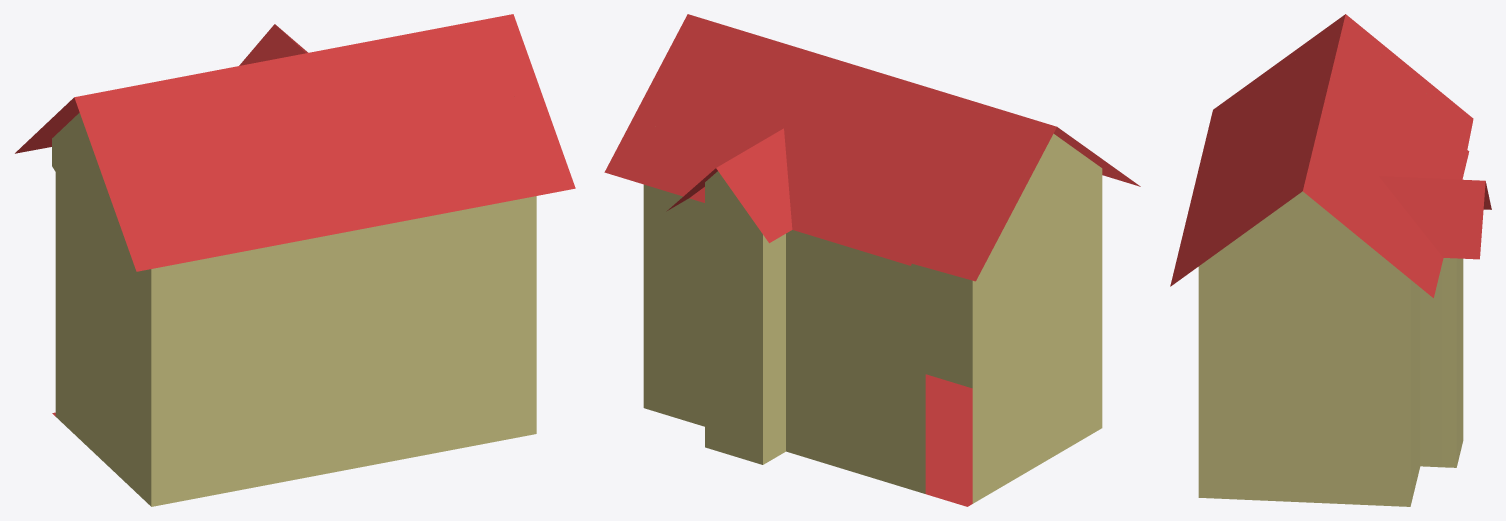
3 views of the same model, side by side, from view 1: azimuth 30°, elevation 25°; view 2: azimuth 150°, elevation 25°; view 3: azimuth 270°, elevation 25° (orthographic). The views are drawn at different scales.
Size of the model in its own units: 17.19 by 12.39 by 13.68.
